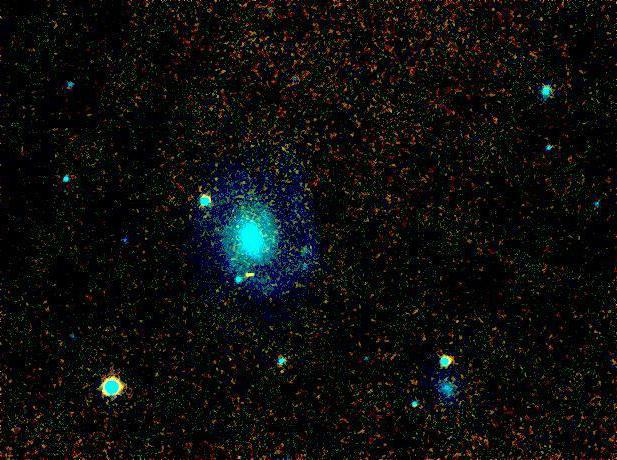star: (225, 262, 255, 292)
